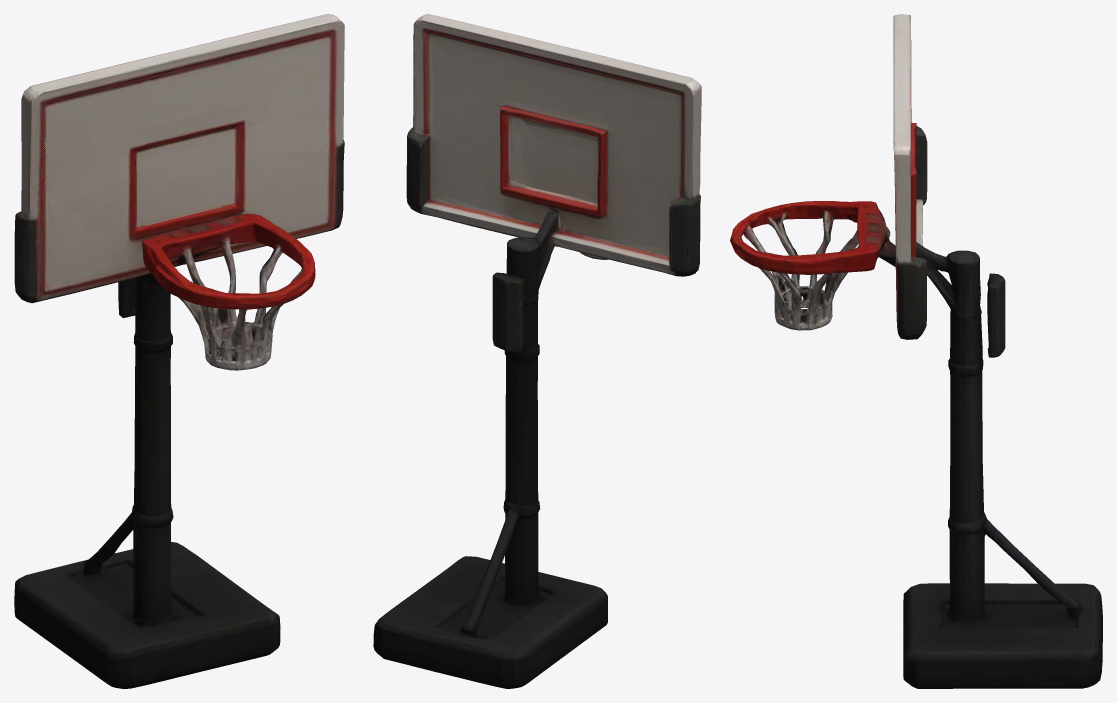
Rendered from basketball hoop.glb.
3 views of the same model, side by side, from view 1: azimuth 30°, elevation 25°; view 2: azimuth 150°, elevation 25°; view 3: azimuth 270°, elevation 25° (orthographic). The views are drawn at different scales.
Parts seen in each view (by area): view 1: world; view 2: world; view 3: world.
Part boxes in pixels (<box>): world: <box>14,14,344,688</box>; world: <box>373,14,701,688</box>; world: <box>730,14,1102,688</box>.
Bounding box in the file's own units: 0.5399 × 1 × 0.5979.
Materials: 1 (1 with a texture image).
